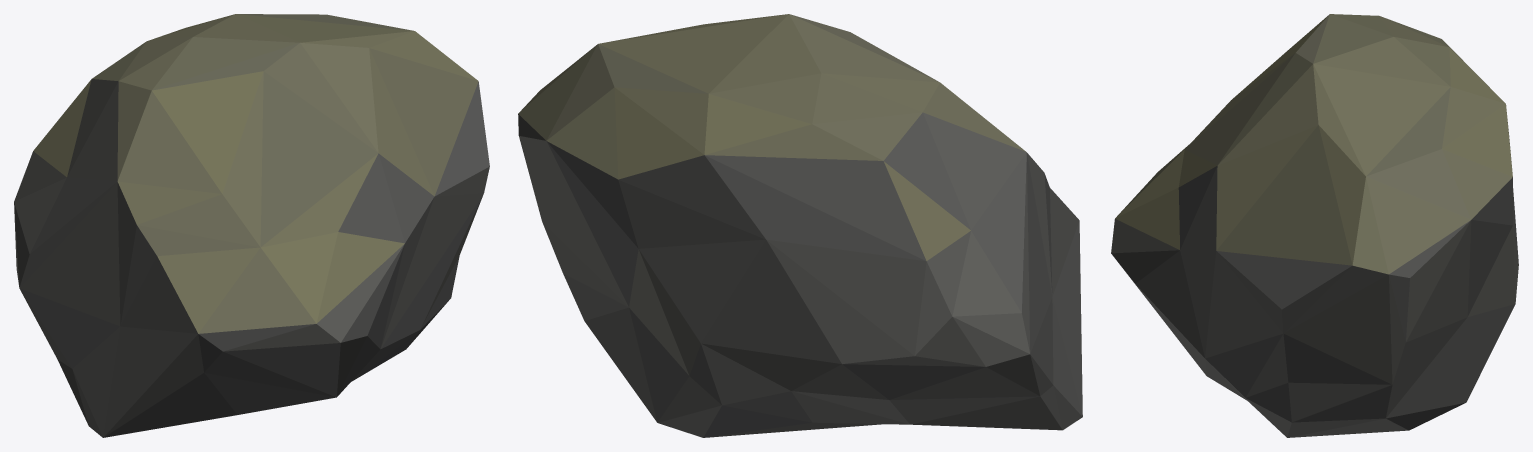
The model's file is rock-large.glb.
The picture shows the model from 3 angles, left to right: view 1: azimuth 30°, elevation 25°; view 2: azimuth 150°, elevation 25°; view 3: azimuth 270°, elevation 25°; orthographic projection. The views are drawn at different scales.
Visible parts, largest first — view 1: rock-large; view 2: rock-large; view 3: rock-large.
Part boxes in pixels (<box>): rock-large: <box>14,14,489,437</box>; rock-large: <box>518,14,1082,437</box>; rock-large: <box>1111,14,1518,437</box>.
Size of the model in its own units: 2.07 by 1.43 by 1.61.
